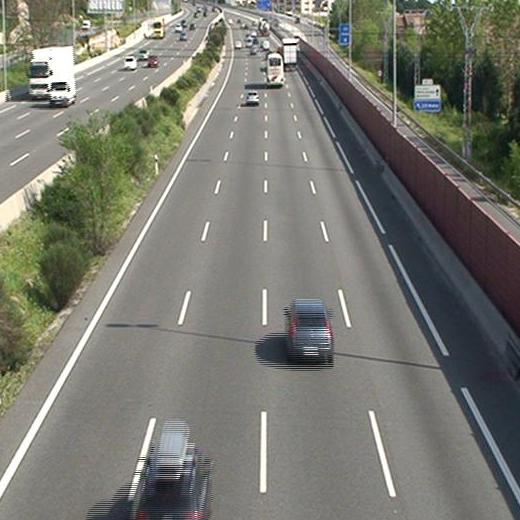bus: (266, 53, 284, 85)
car: (136, 450, 208, 520), (284, 301, 334, 361), (245, 91, 260, 103)
truck: (283, 39, 298, 69)
